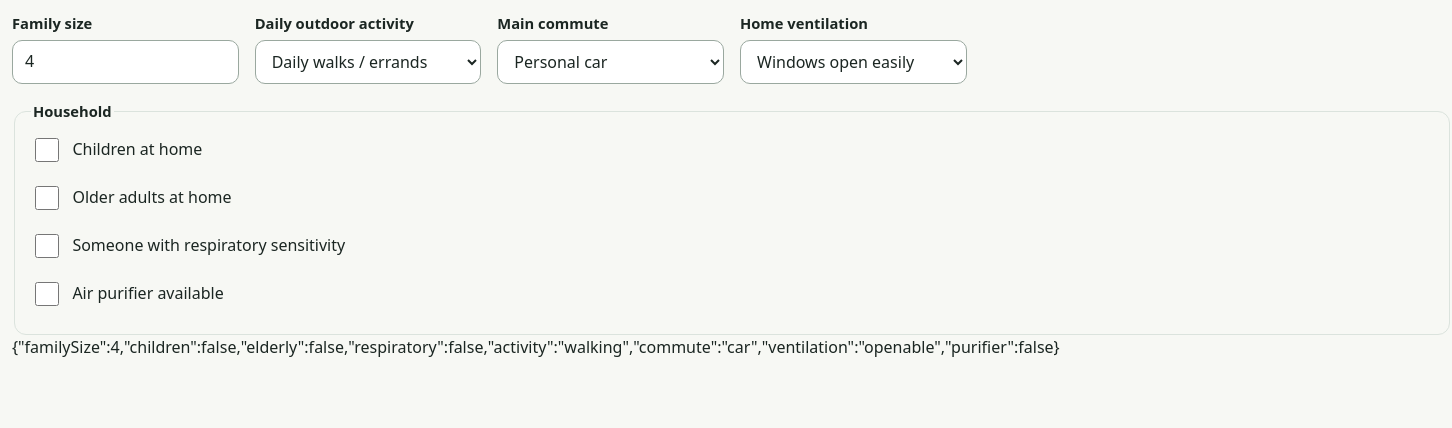
Test: ProfileForm › accepts a valid family size and rejects an invalid one with a linked, announced error
The image size is (1452, 428).
Clear the field labelled "Family size" at (125, 62), box [12, 40, 239, 84]
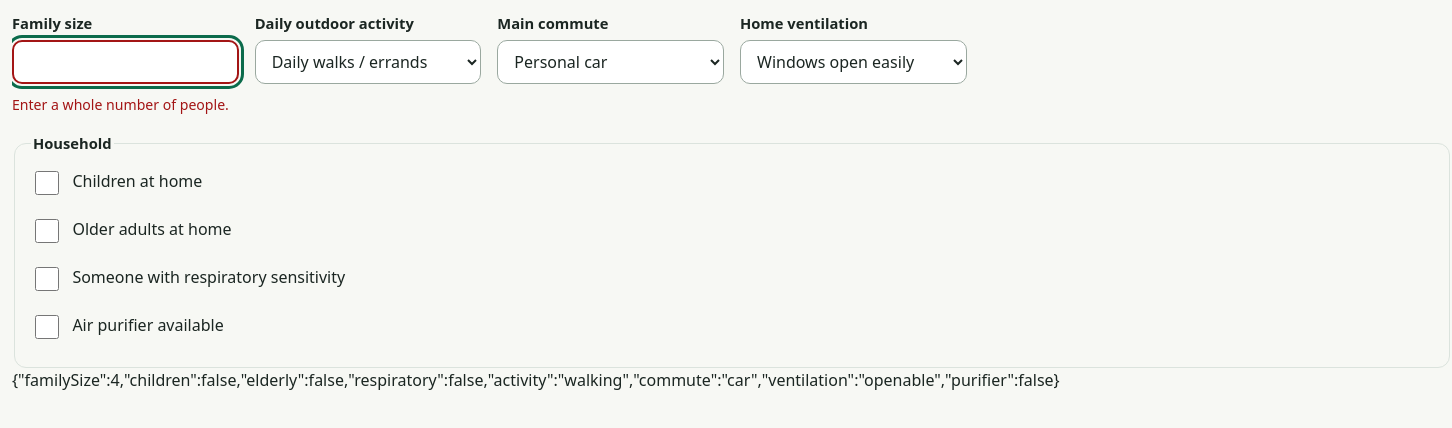
Type "6" into the field labelled "Family size".
click(125, 62); type("6")  # box [12, 40, 239, 84]
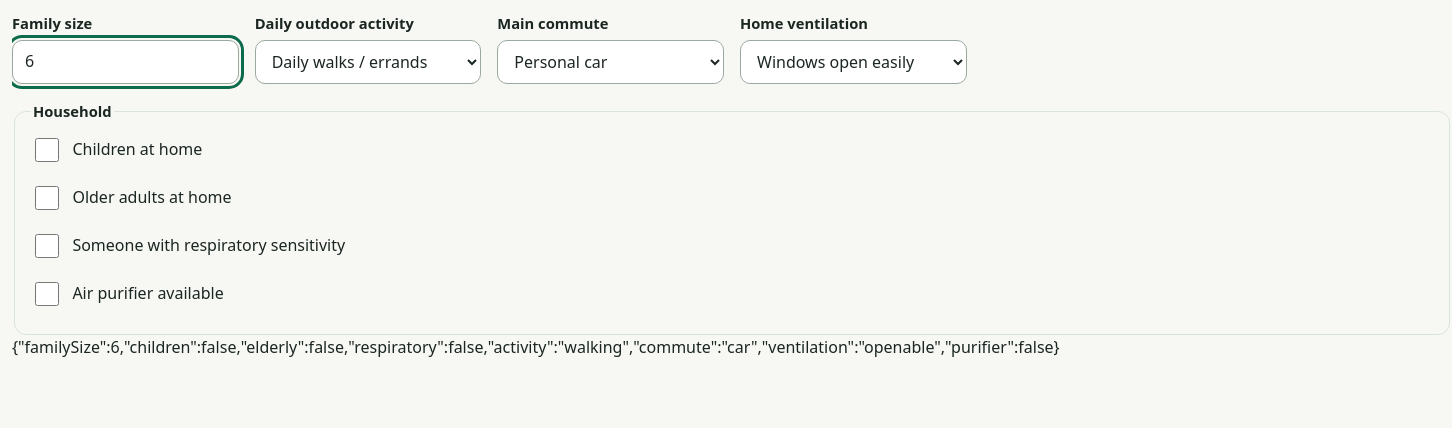
Clear the field labelled "Family size" at (125, 62), box [12, 40, 239, 84]
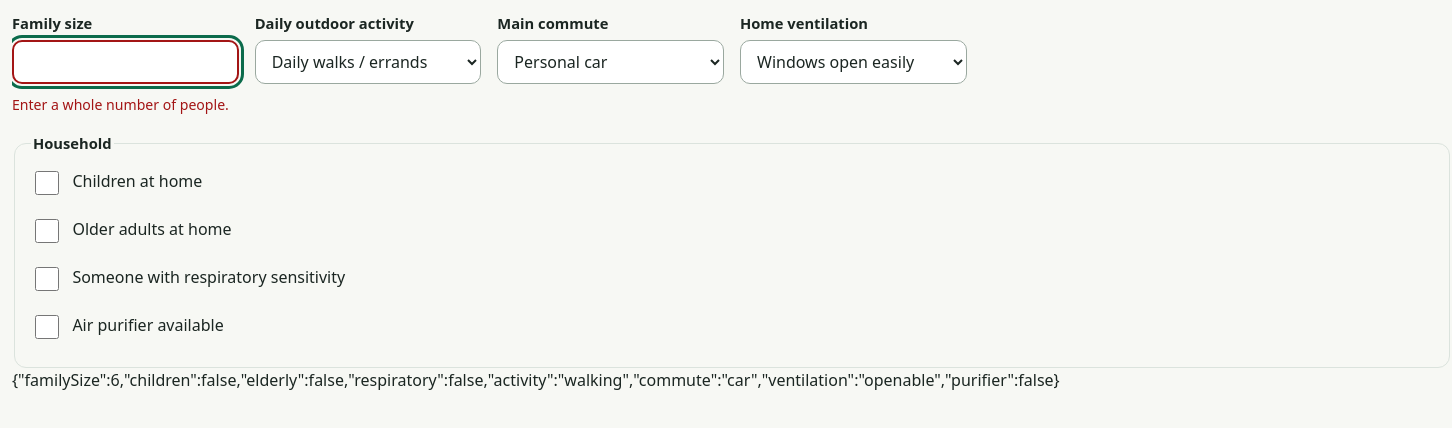
Type "99" into the field labelled "Family size".
click(125, 62); type("99")  # box [12, 40, 239, 84]
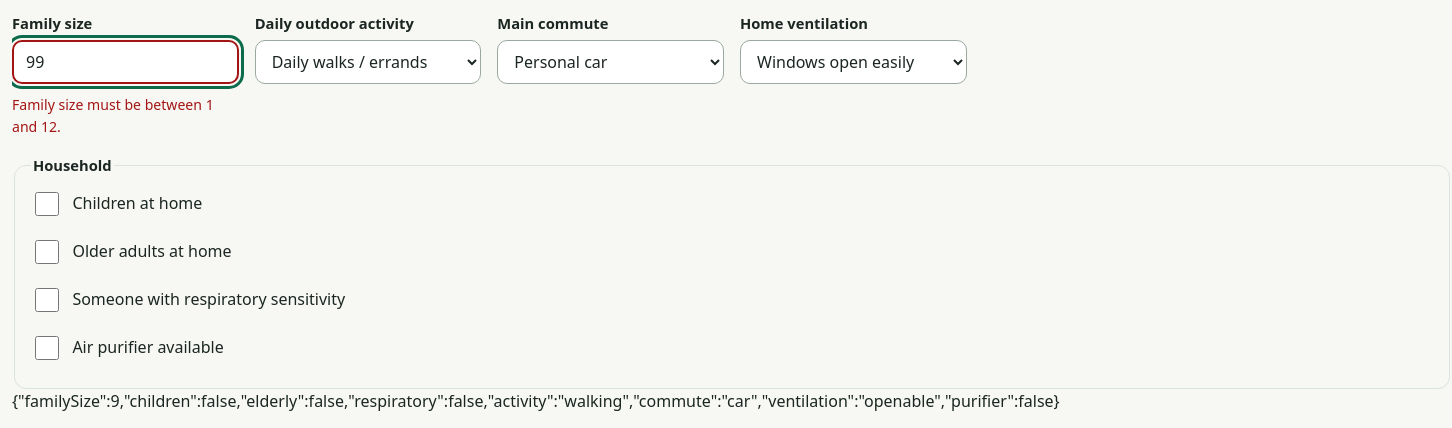
Result: the message shows "between 1 and 12" at [12, 95, 214, 136]
Leave the field labelled "Family size", box [12, 40, 239, 84]
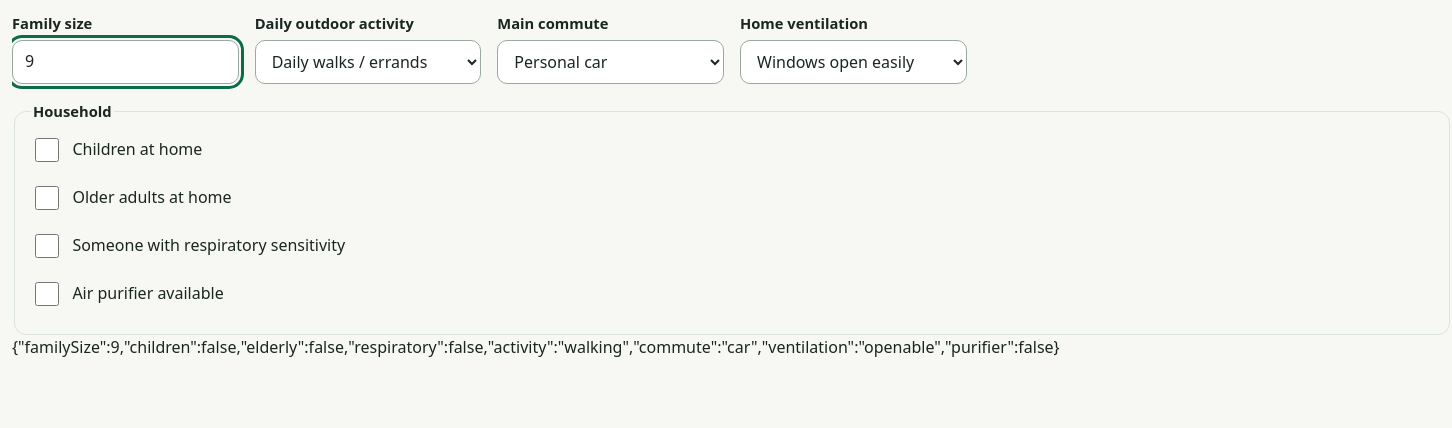
Result: the field labelled "Family size" holds "9" at [12, 40, 239, 84]
Result: the message "Family size must be between 1 and 12." is gone
